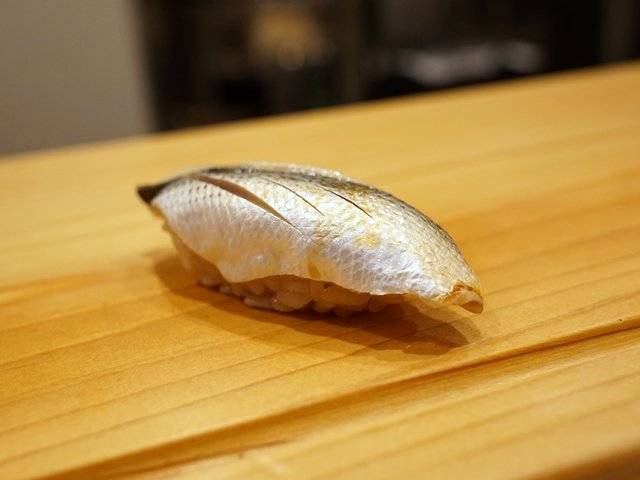spotted-shad: (134, 163, 485, 333)
